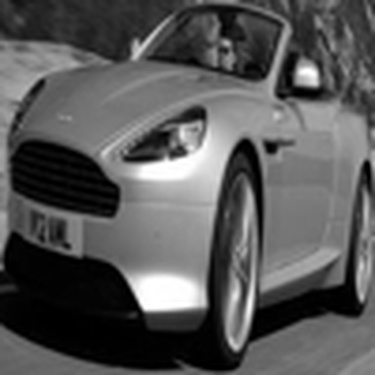car: (16, 4, 369, 334)
